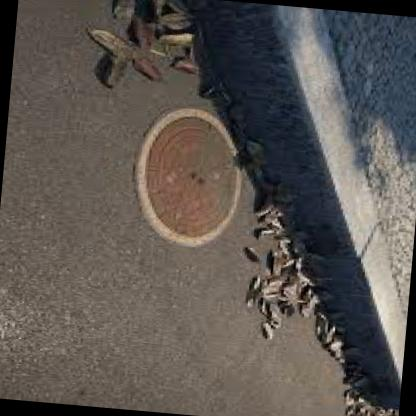manholes: (119, 100, 254, 268)
